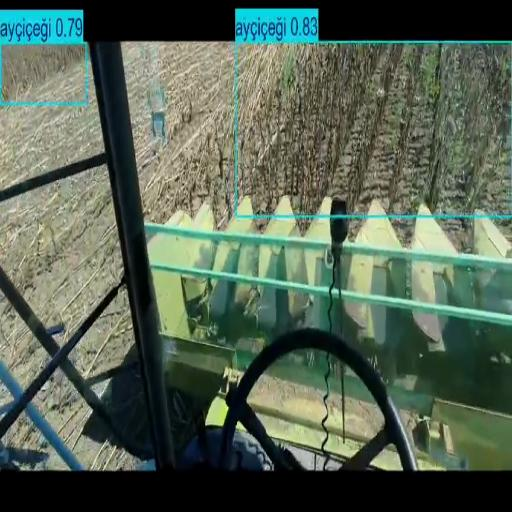ayc: (283, 44, 510, 211)
